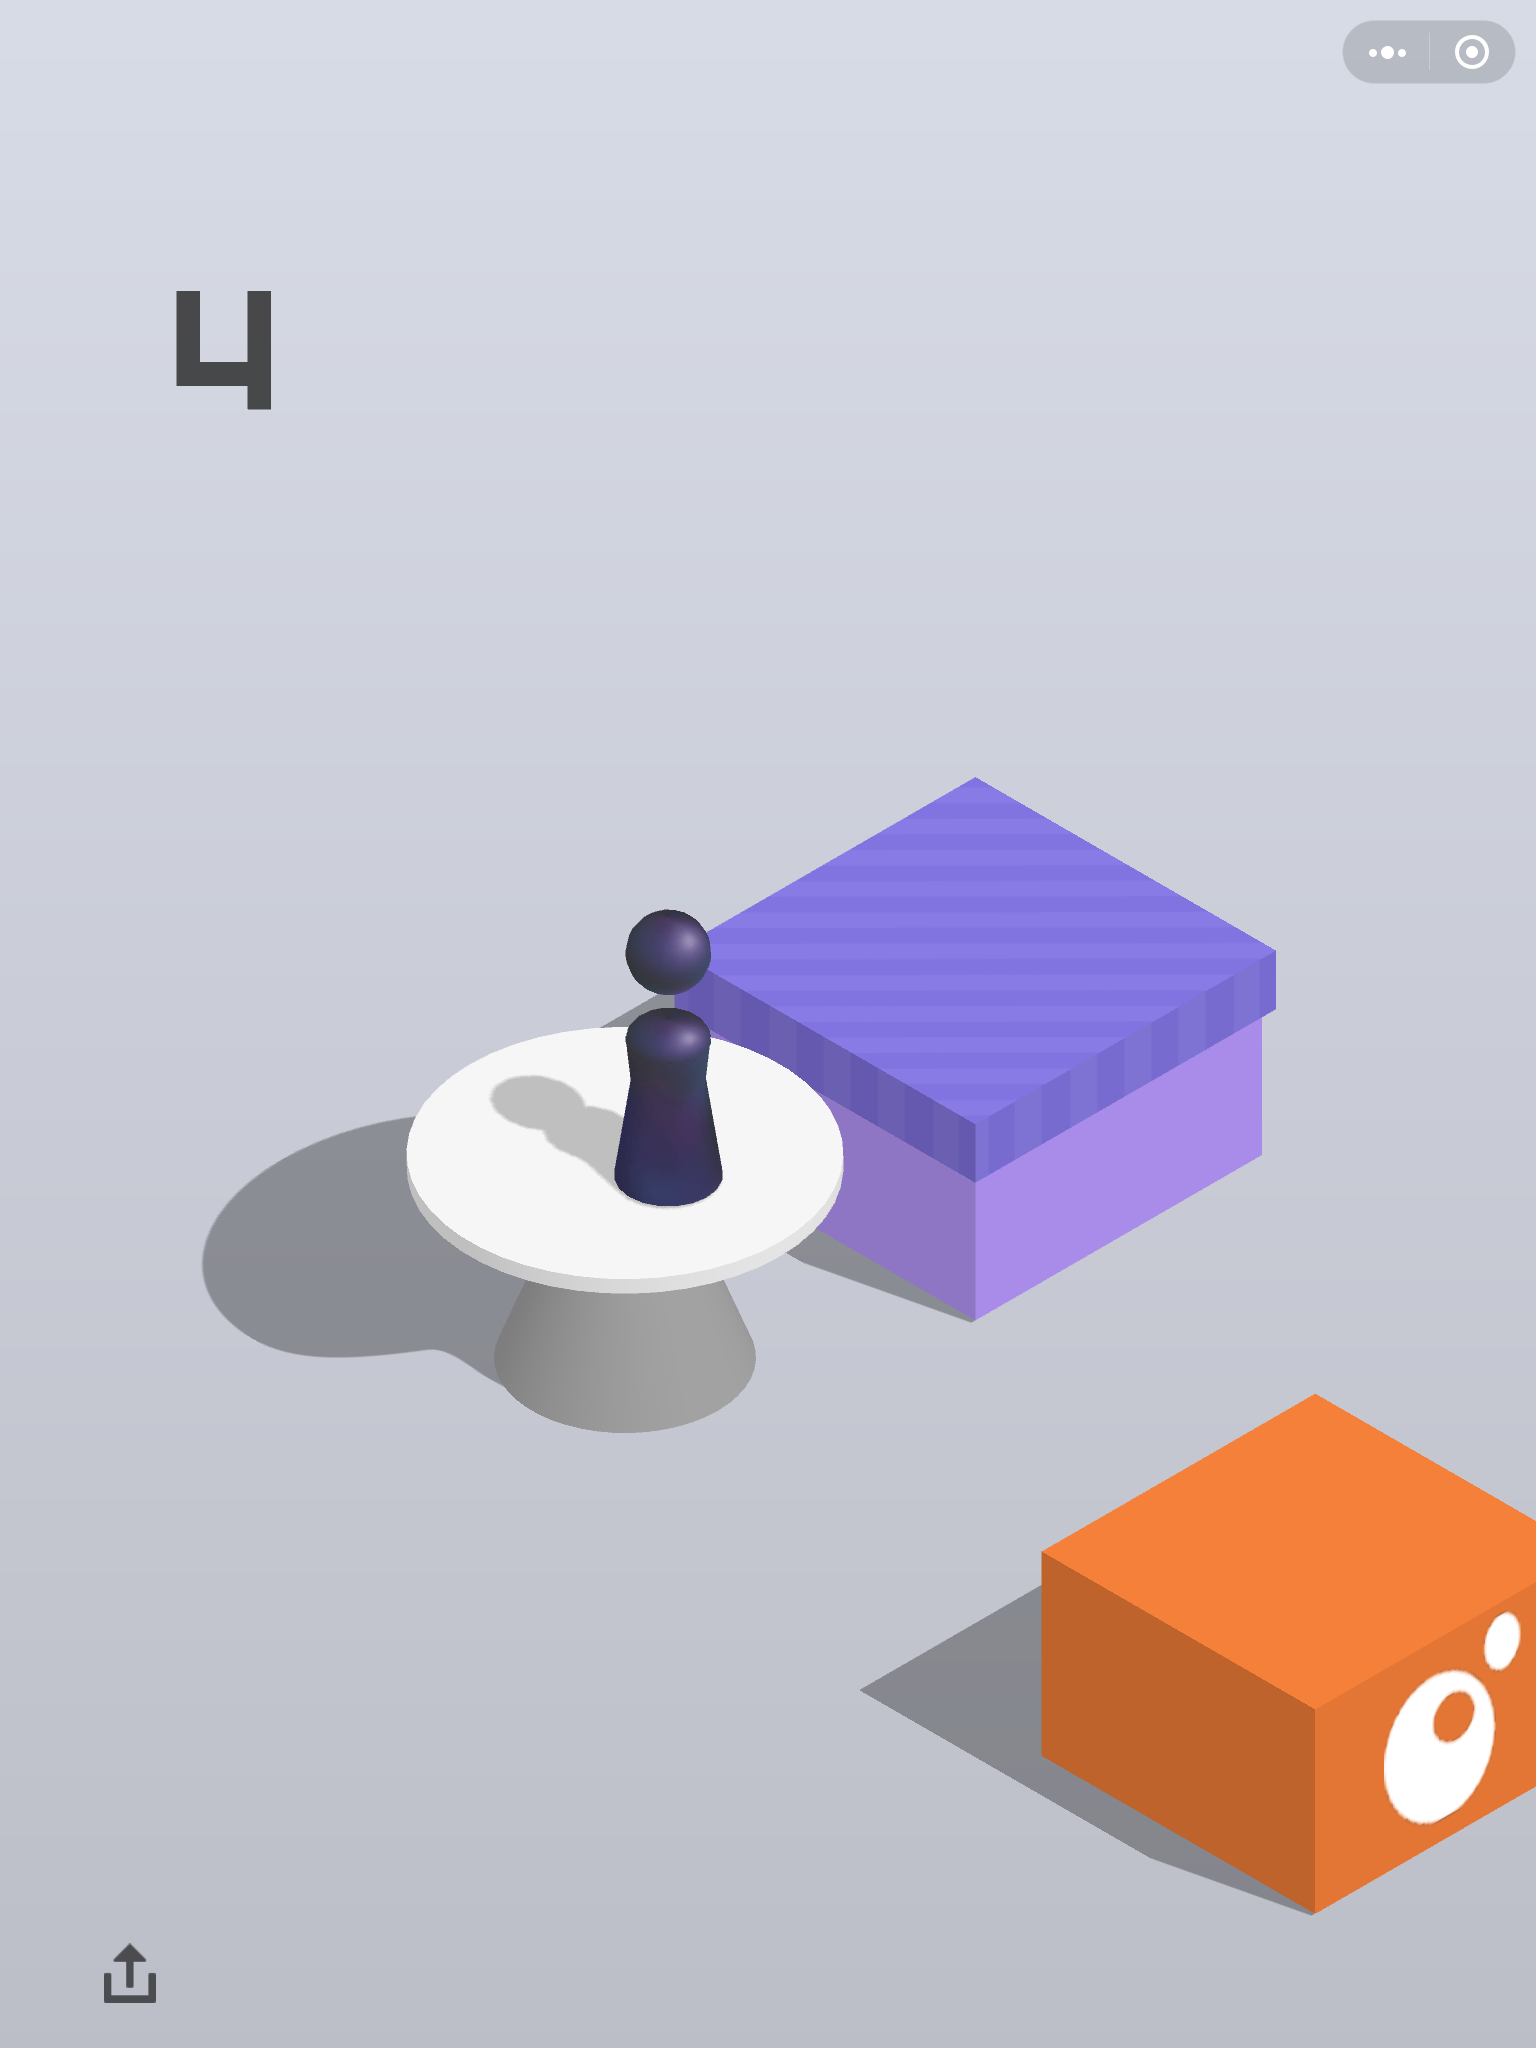c: (400, 1022, 850, 1443)
f: (670, 771, 1288, 1324), (1036, 1387, 1536, 1916)
r: (611, 905, 728, 1206)
